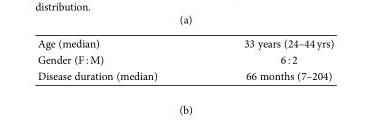table: (36, 36, 333, 81)
table column: (36, 36, 199, 81), (199, 36, 333, 81)
table row: (36, 51, 333, 67), (36, 36, 333, 51), (36, 67, 333, 81)
